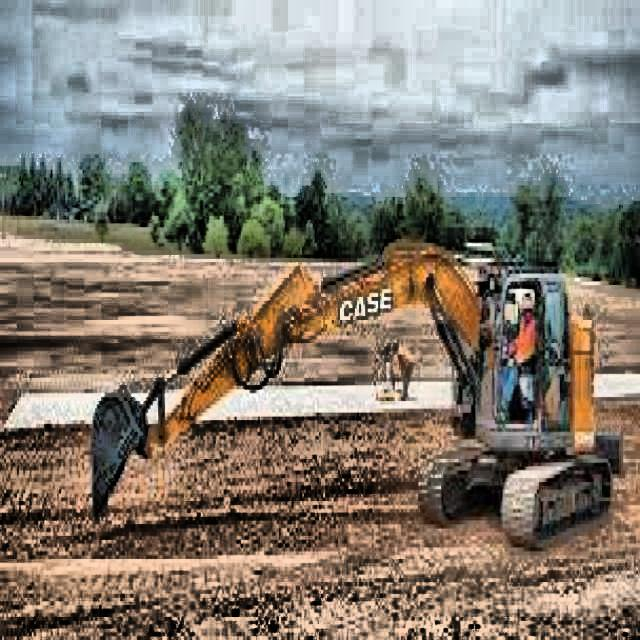bull_dozer/loader/grader: (89, 235, 626, 552)
person: (499, 291, 537, 423), (392, 338, 414, 402)
